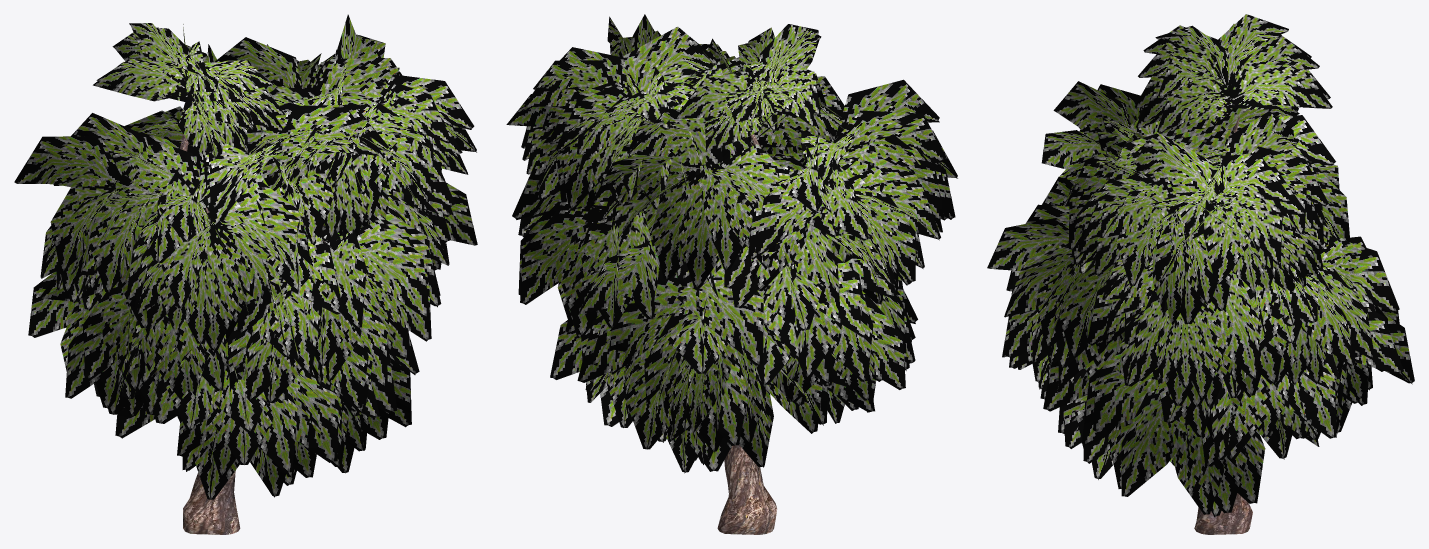
The model's file is tree2.glb.
The picture shows the model from 3 angles, left to right: view 1: azimuth 30°, elevation 25°; view 2: azimuth 150°, elevation 25°; view 3: azimuth 270°, elevation 25°; orthographic projection. The views are drawn at different scales.
Parts seen in each view (by area): view 1: Tree2; view 2: Tree2; view 3: Tree2.
Part boxes in pixels (bbox=[...]): Tree2: bbox=[14, 14, 477, 534]; Tree2: bbox=[506, 14, 957, 534]; Tree2: bbox=[987, 14, 1414, 534].
Bounding box in the file's own units: 5.09 × 6.06 × 4.8.
2 materials, 2 textured.
